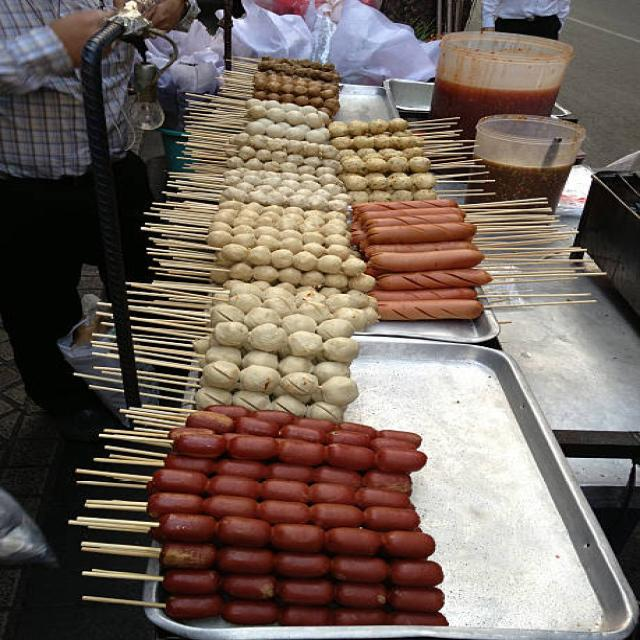Emperan: (54, 43, 640, 638)
